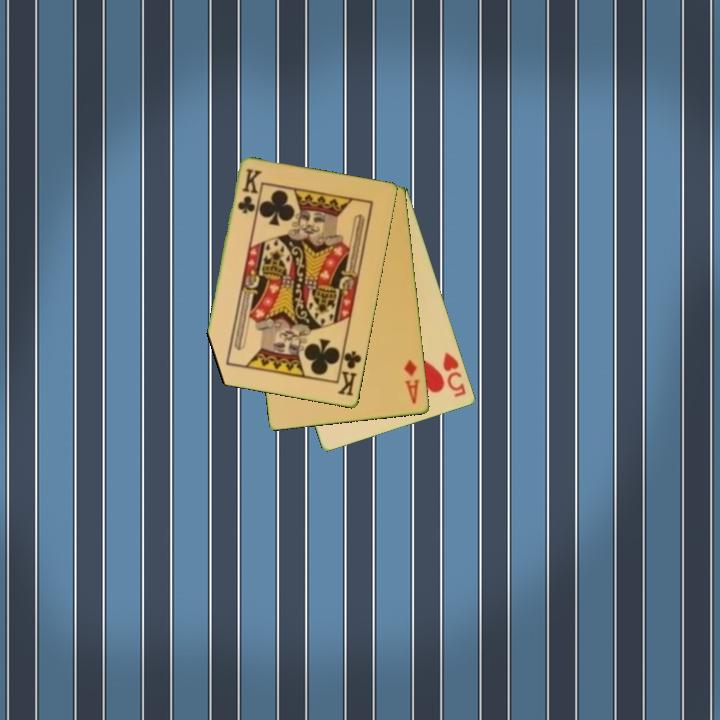5h: (439, 349, 469, 400)
Ad: (401, 357, 423, 407)
Kc: (335, 343, 364, 399), (234, 165, 263, 217)
